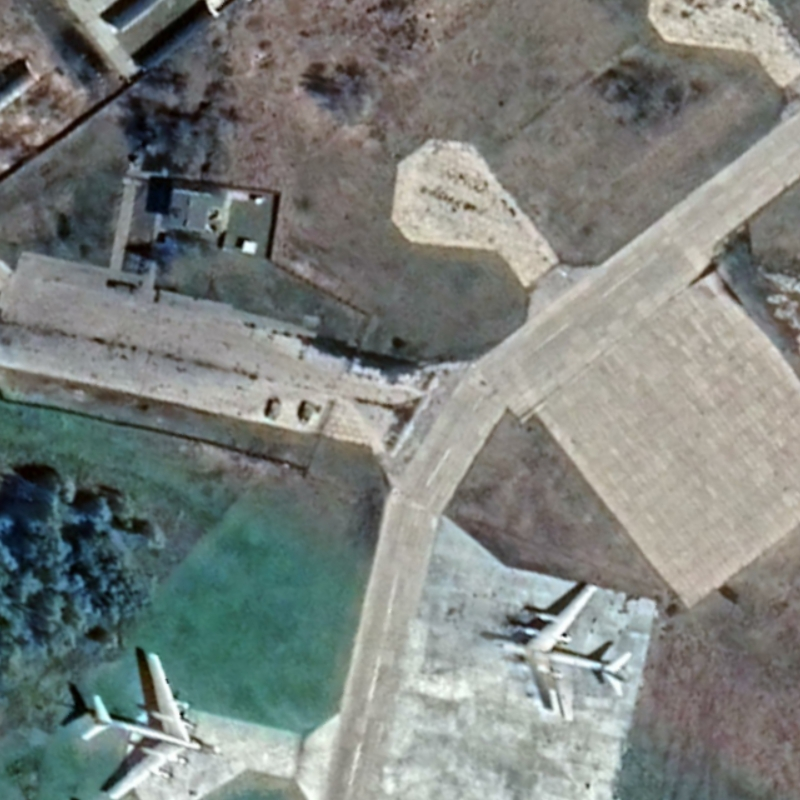A17: (79, 650, 225, 800), (484, 582, 635, 727)
